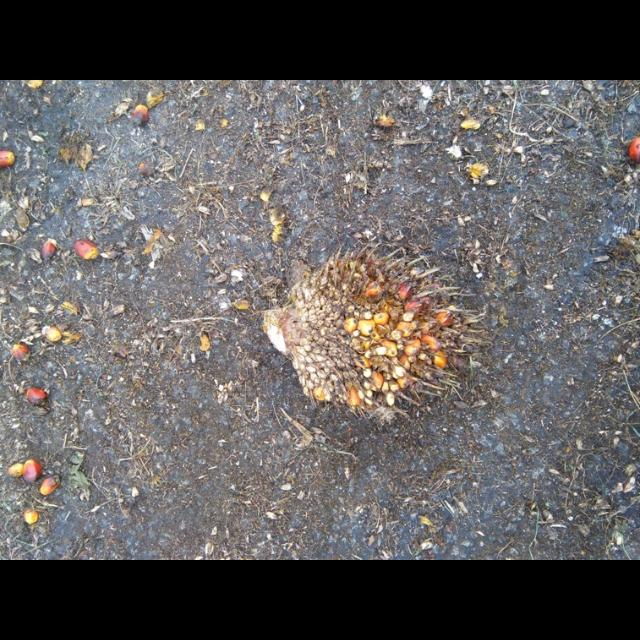Overripe: (263, 251, 481, 412)
